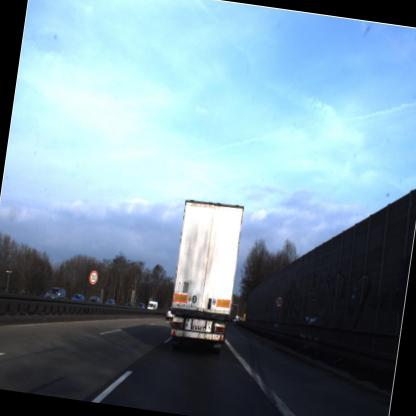prohibitory: (86, 266, 102, 286), (273, 294, 285, 312)
